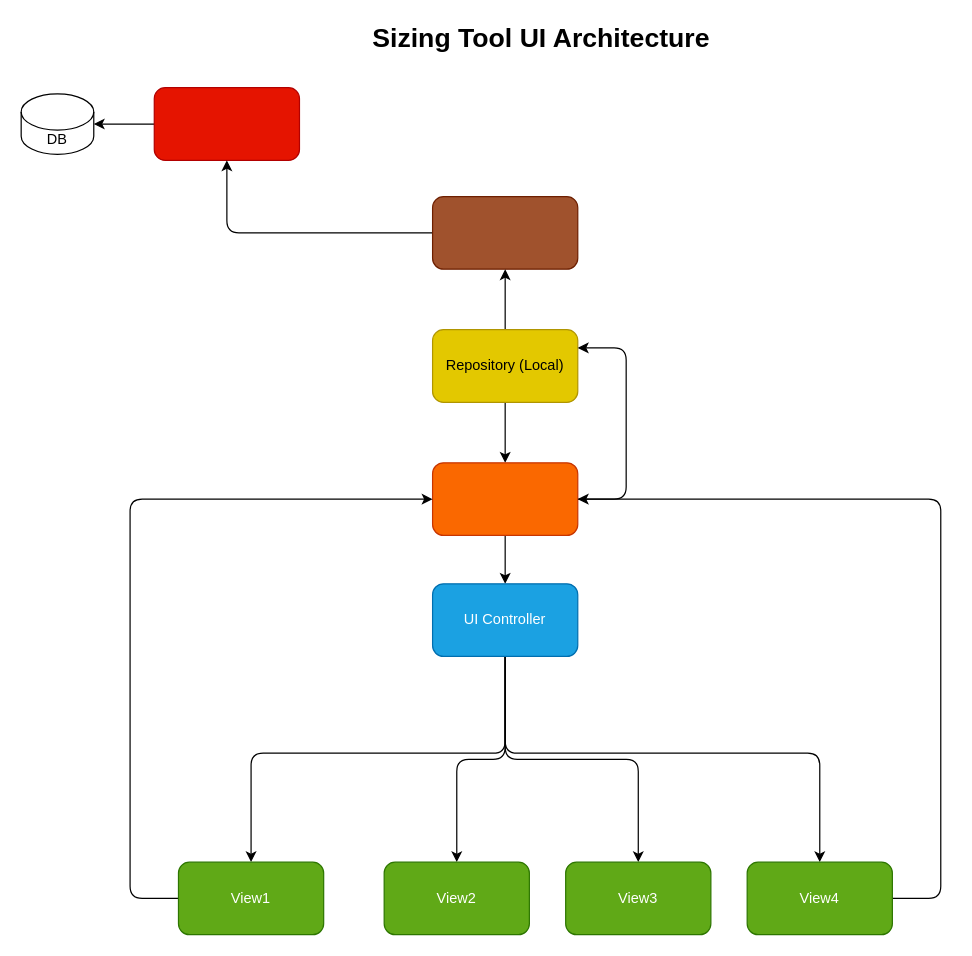
This 972x956 diagram has some shape labels left out. The centre of each missing label's shape, as x and y in pixels:
Request Module: (x=504, y=232)
Server (API): (x=226, y=123)
ViewModel: (x=504, y=498)
